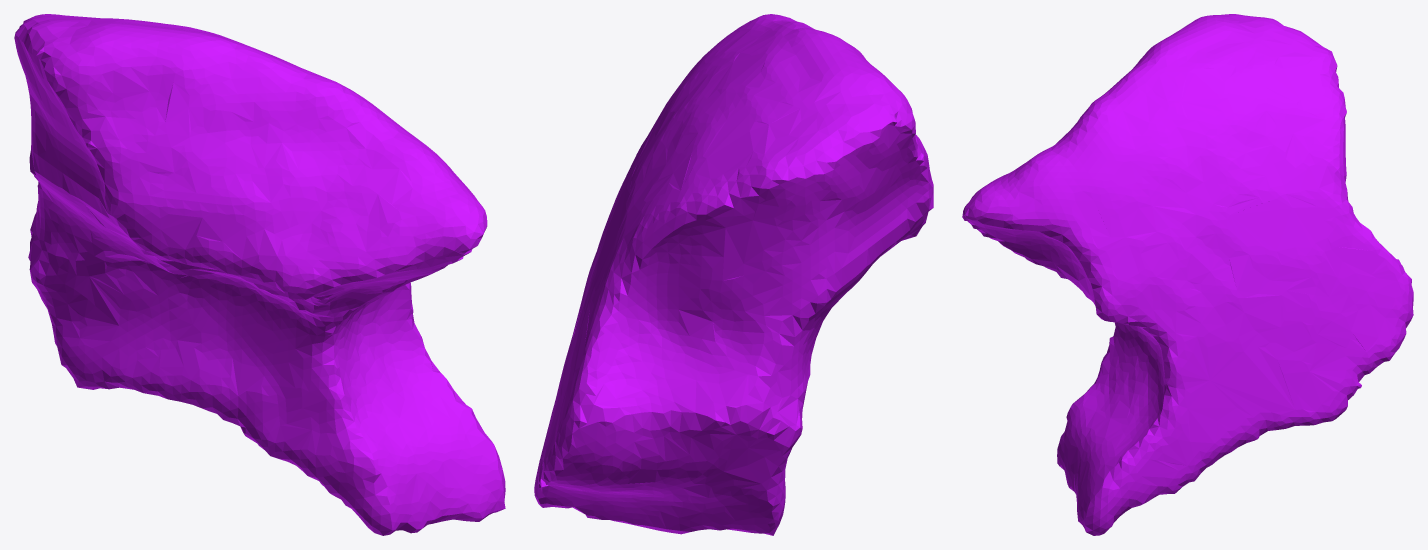
The model's file is Model_126_RH__Superior_temporal_rostral__area_(STR).obj.
3 renders of one model, left to right at view 1: azimuth 30°, elevation 25°; view 2: azimuth 150°, elevation 25°; view 3: azimuth 270°, elevation 25°, orthographic. The views are drawn at different scales.
Bounding box in the file's own units: 3.56 × 4.49 × 4.64.
